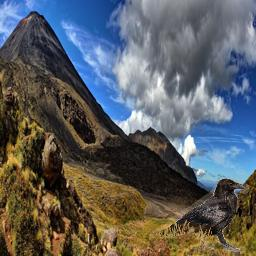Crow: (149, 178, 249, 252)
